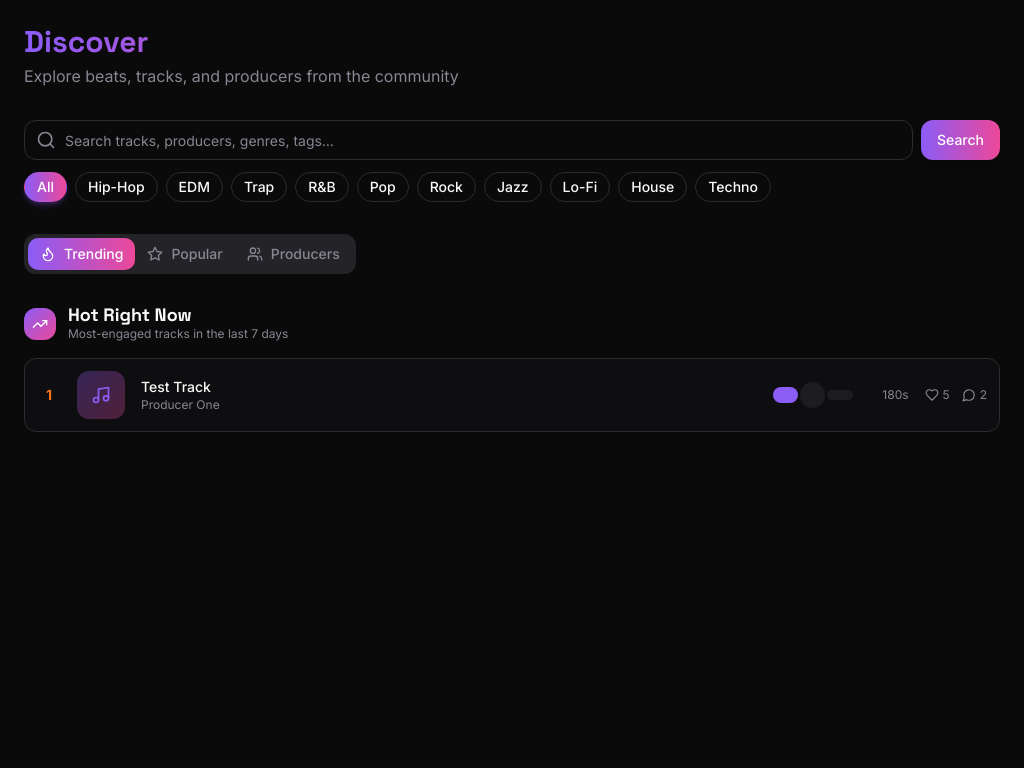
Test case: Discover page › clears search when Clear button is clicked
The image size is (1024, 768).
Check: the heading "Discover" is shown, box [24,24,1000,60]
Type "bass" into the field with placeholder "Search tracks, producers, genres, tags…" at [468, 140], box [24,120,913,160]
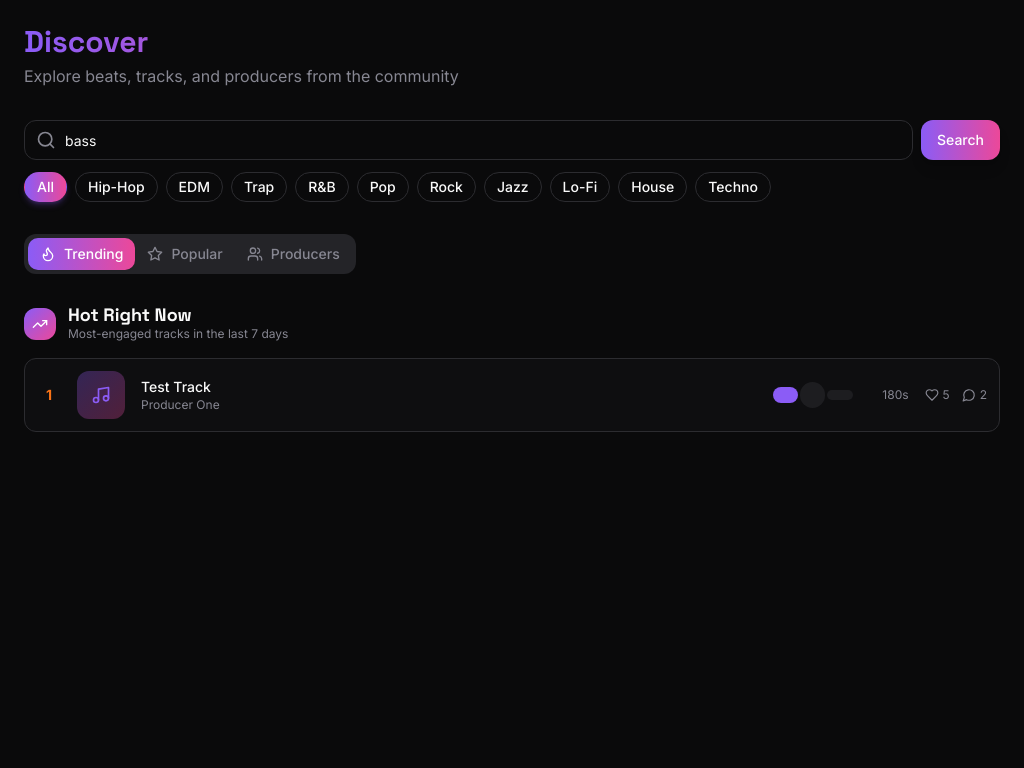
Submit the form with placeholder "search tracks", box [24,120,1000,160]
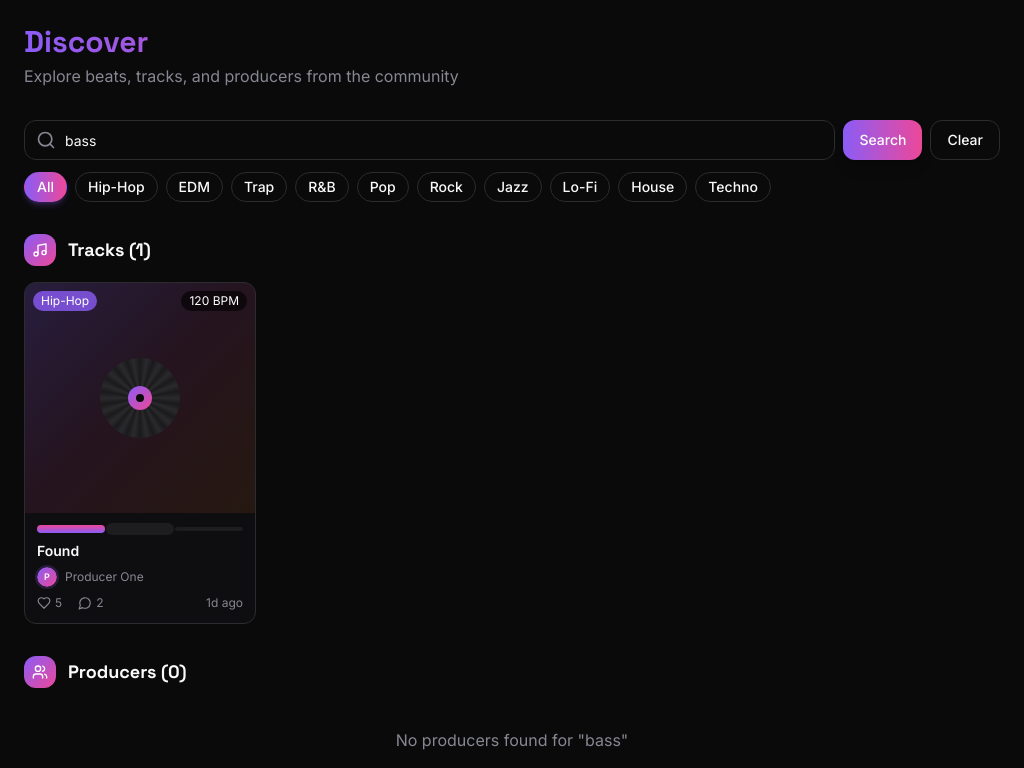
Check: the heading "Tracks (1)" is shown, box [68,241,151,259]
Click the button "Clear" at [965, 140], box [930,120,1000,160]
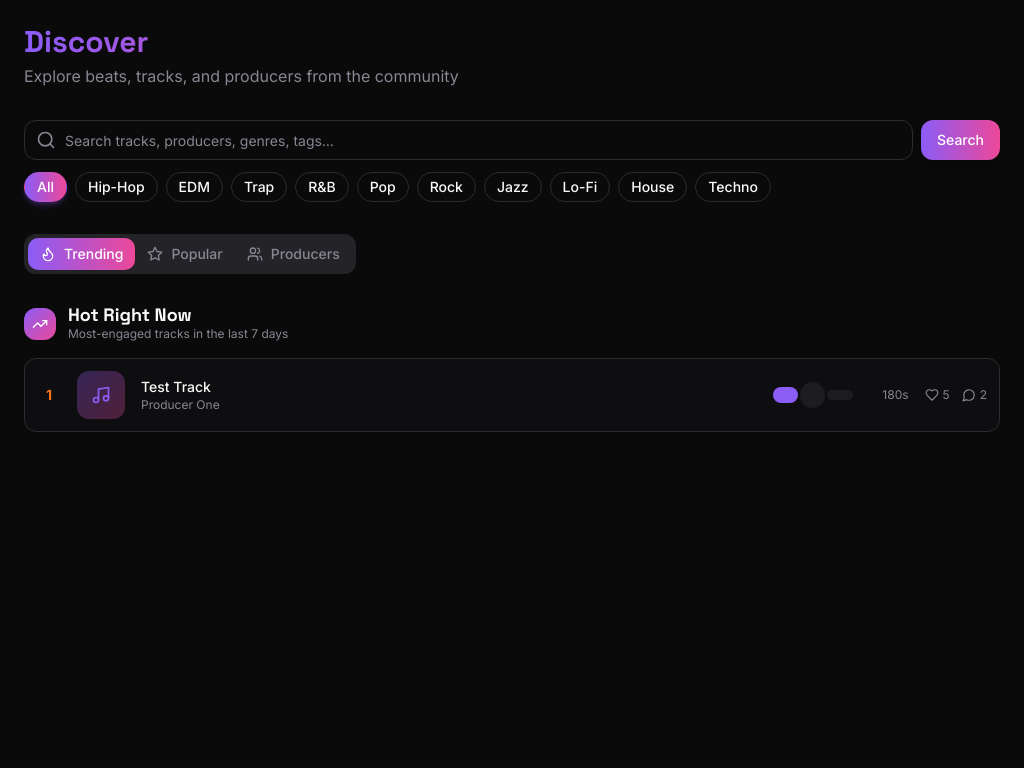
Check: the element showing "Trending Popular Producers" is shown, box [24,234,356,274]
